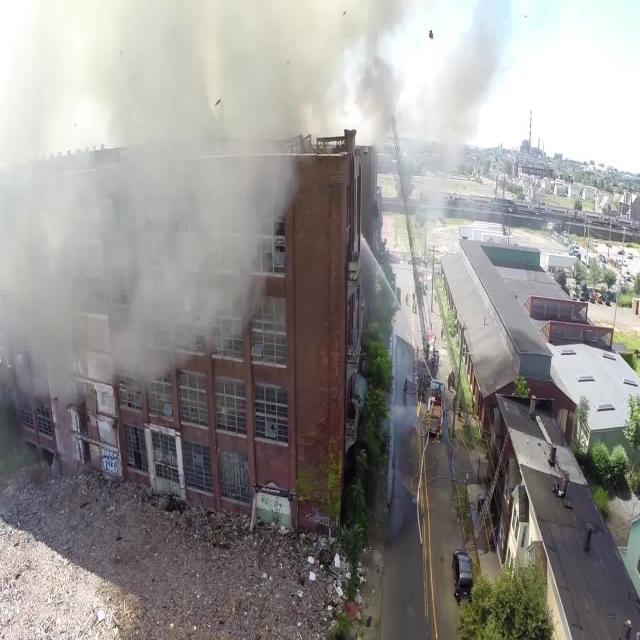Smoke: (4, 0, 506, 433)
